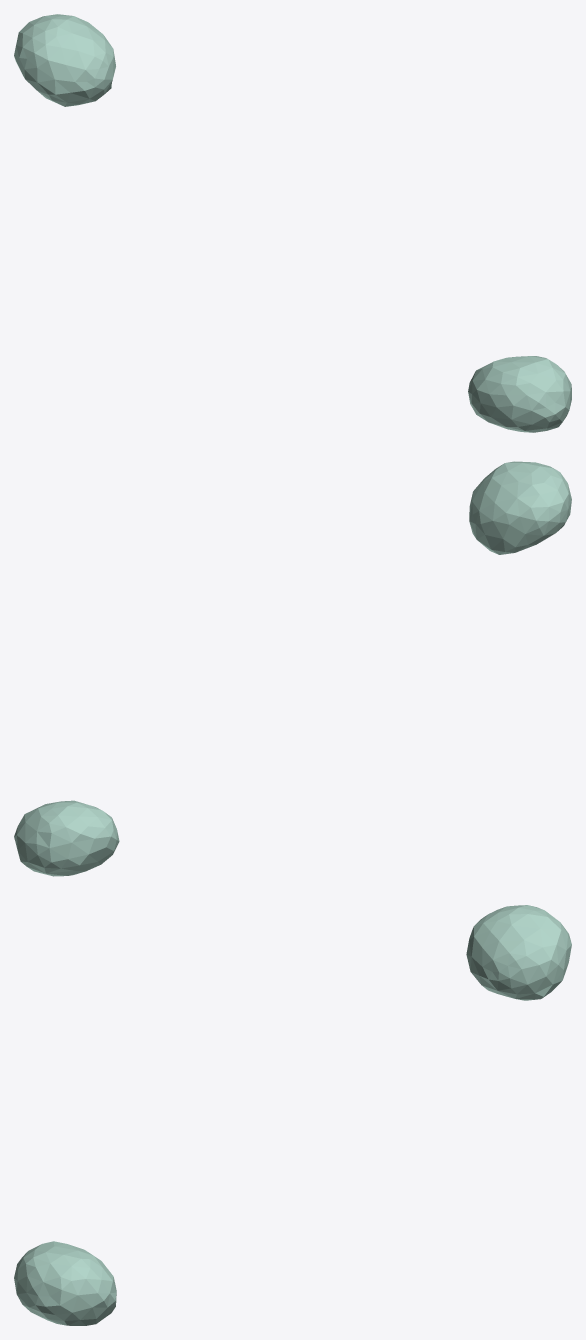
The picture shows the model from 3 angles, top to bottom: view 1: azimuth 30°, elevation 25°; view 2: azimuth 150°, elevation 25°; view 3: azimuth 330°, elevation 25°; orthographic projection.
Visible parts, largest first — view 1: 268.obj; view 2: 268.obj; view 3: 268.obj.
Part boxes in pixels (left/top/right/bottom): 268.obj: left=14, top=14, right=571, bottom=432; 268.obj: left=14, top=461, right=571, bottom=876; 268.obj: left=14, top=905, right=571, bottom=1325.
Size of the model in its own units: 485 by 391 by 4716.
